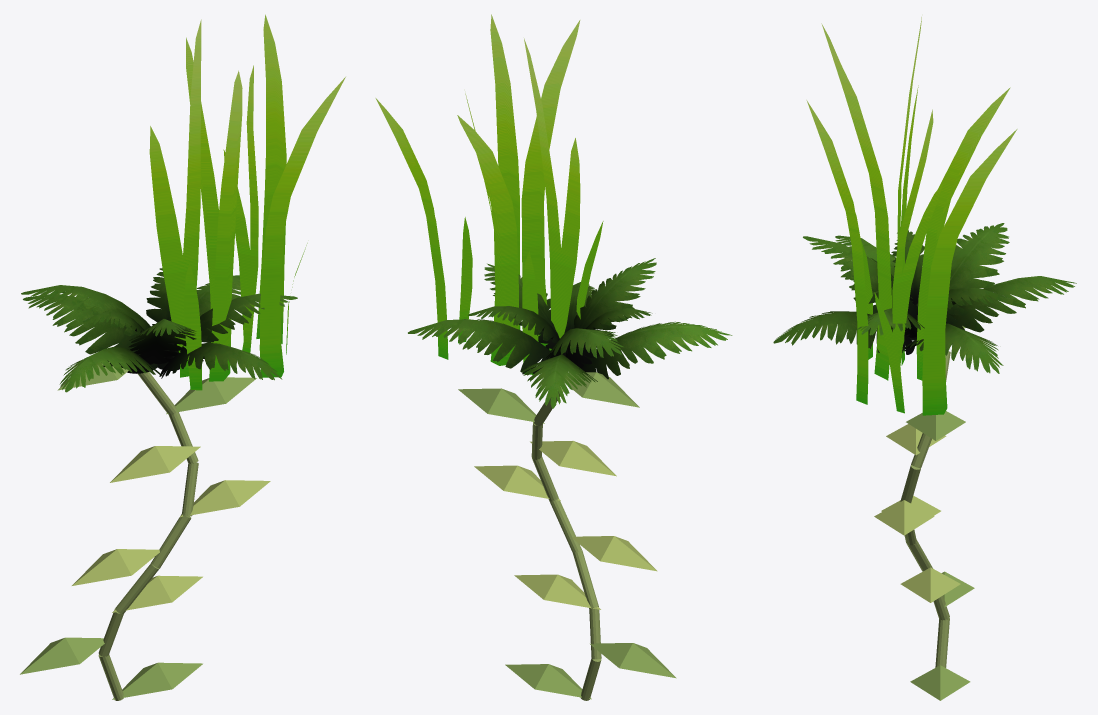
The model's file is Cable_Spool_Greenery.glb.
3 renders of one model, left to right at view 1: azimuth 30°, elevation 25°; view 2: azimuth 150°, elevation 25°; view 3: azimuth 270°, elevation 25°, orthographic. The views are drawn at different scales.
Visible parts, largest first — view 1: Patch_000; view 2: Patch_000; view 3: Patch_000.
Part boxes in pixels (left/top/right/bottom): Patch_000: left=20, top=14, right=345, bottom=700; Patch_000: left=375, top=14, right=732, bottom=700; Patch_000: left=773, top=17, right=1076, bottom=700.
Size of the model in its own units: 0.7652 by 1.67 by 0.6874.
5 materials, 2 textured.
